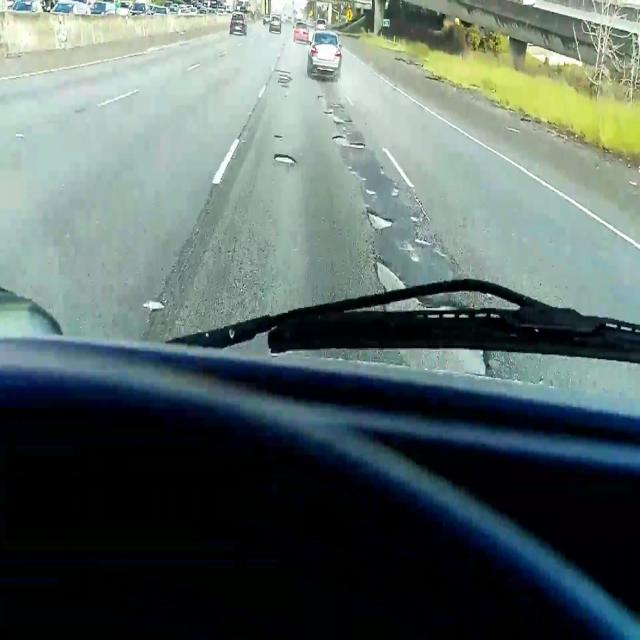Pothole: (375, 258, 475, 312), (395, 345, 490, 377), (365, 209, 395, 230), (332, 135, 366, 150), (274, 154, 297, 164), (278, 75, 292, 86), (275, 70, 290, 74)
